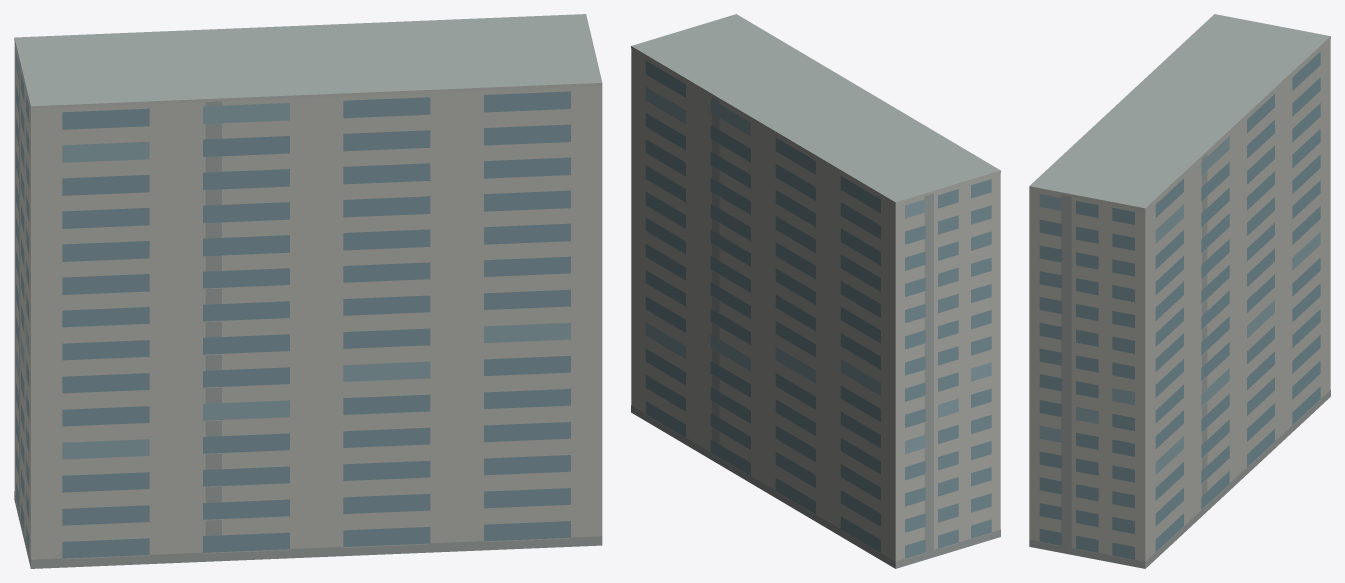
Rendered from residential-d54dbf3b-4455-4db0-8194-a47ceb2860d0.glb.
The picture shows the model from 3 angles, left to right: view 1: azimuth 30°, elevation 25°; view 2: azimuth 150°, elevation 25°; view 3: azimuth 270°, elevation 25°; orthographic projection. The views are drawn at different scales.
Parts seen in each view (by area): view 1: residential-d54dbf3b-4455-4db0-8194-a47ceb2860d0.tmp; view 2: residential-d54dbf3b-4455-4db0-8194-a47ceb2860d0.tmp; view 3: residential-d54dbf3b-4455-4db0-8194-a47ceb2860d0.tmp.
Boxes of the visible parts, x1,y1,x2,y2 form: residential-d54dbf3b-4455-4db0-8194-a47ceb2860d0.tmp: [14, 14, 602, 568]; residential-d54dbf3b-4455-4db0-8194-a47ceb2860d0.tmp: [631, 14, 1000, 568]; residential-d54dbf3b-4455-4db0-8194-a47ceb2860d0.tmp: [1029, 14, 1330, 568].
Bounding box in the file's own units: 42.77 × 37 × 28.05.
